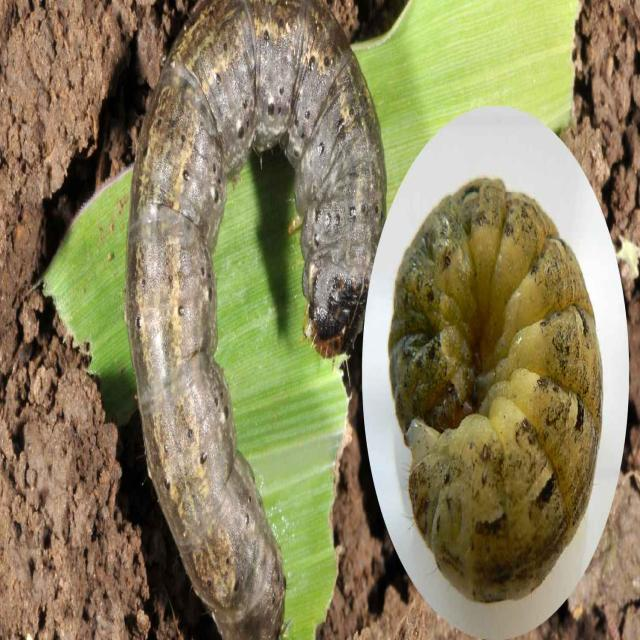Cutworm: (126, 1, 388, 640), (391, 169, 606, 614)
